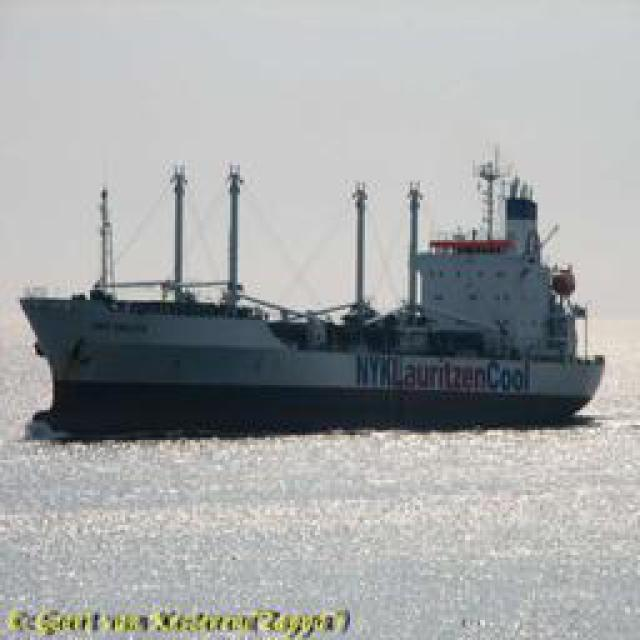Ship: (13, 144, 608, 417)
